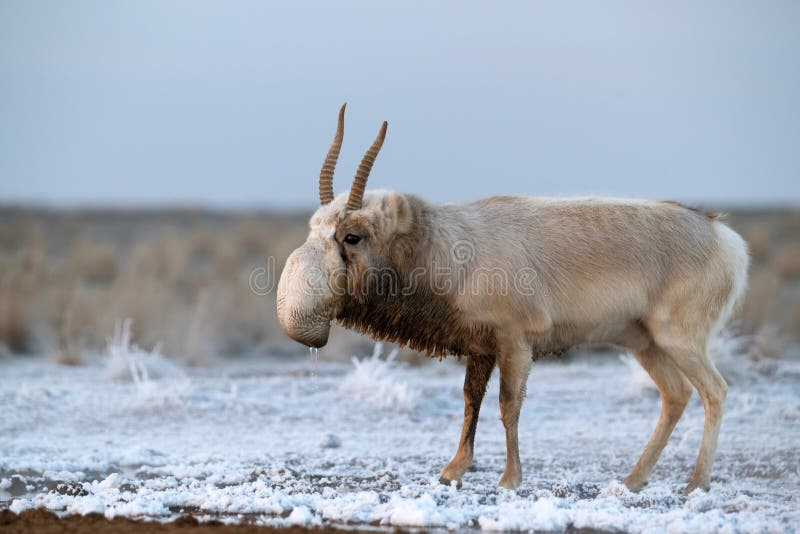saiga: (274, 101, 763, 490)
